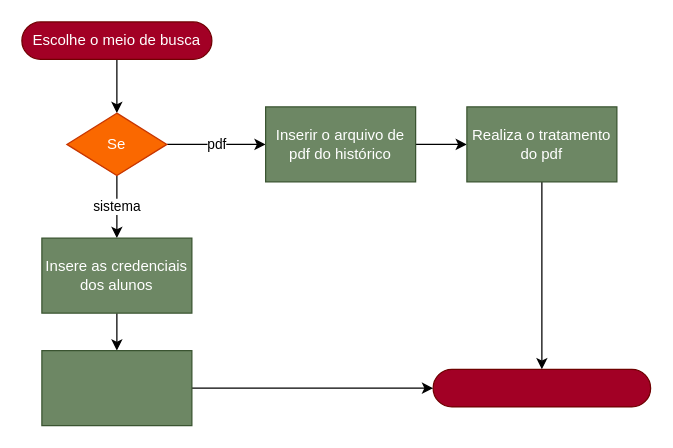
Some shapes in this 673 by 448 pixel diagram are drawn without their labels. The shapes that lost their labels are listed below. From the top down, each one's centre as x and y in pixels, then its label:
[116,387]: Carrega o sistema e realiza a raspagem
[541,387]: Retorna os dados do histórico
